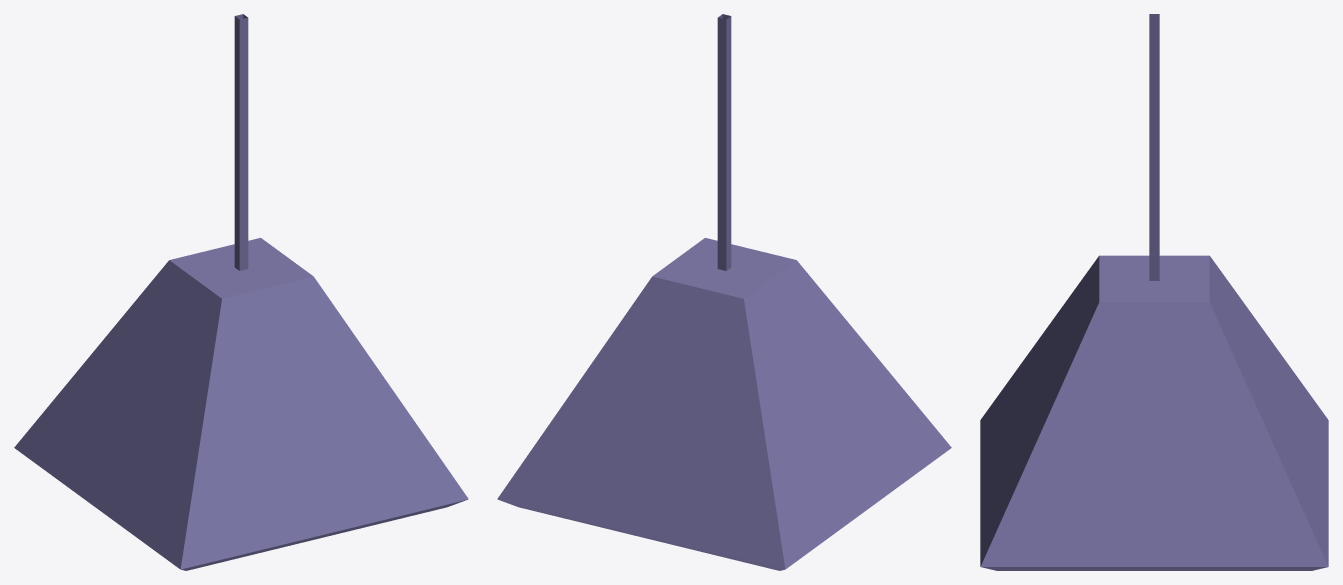
File: LuzDeTecho01.fbx
The picture shows the model from 3 angles, left to right: view 1: azimuth 30°, elevation 25°; view 2: azimuth 150°, elevation 25°; view 3: azimuth 270°, elevation 25°; orthographic projection. The views are drawn at different scales.
Parts seen in each view (by area): view 1: LuzTecho01; view 2: LuzTecho01; view 3: LuzTecho01.
Part boxes in pixels (x1=…): LuzTecho01: x1=14, y1=14, x2=468, y2=570; LuzTecho01: x1=497, y1=14, x2=951, y2=570; LuzTecho01: x1=980, y1=14, x2=1328, y2=570.
Size of the model in its own units: 0.3056 by 0.4732 by 0.3056.
